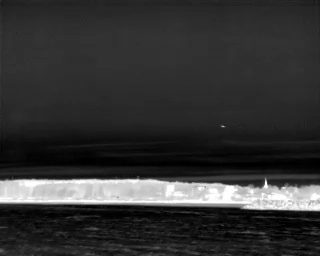BIRD: (219, 122, 227, 131)
